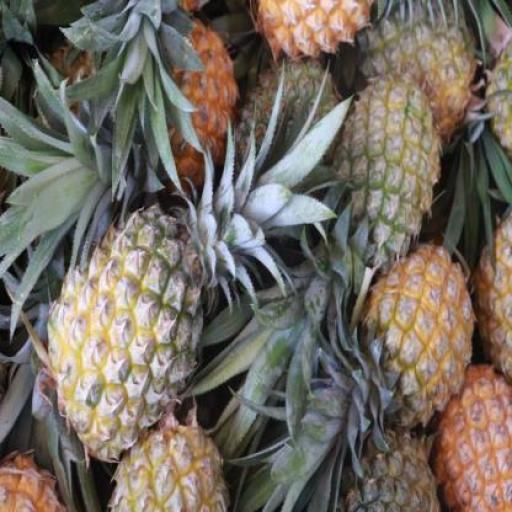------------------------------: (46, 217, 199, 464), (334, 79, 433, 273), (374, 0, 494, 144), (108, 408, 229, 510)
Pineapple - v8 v1: (364, 245, 472, 428)
